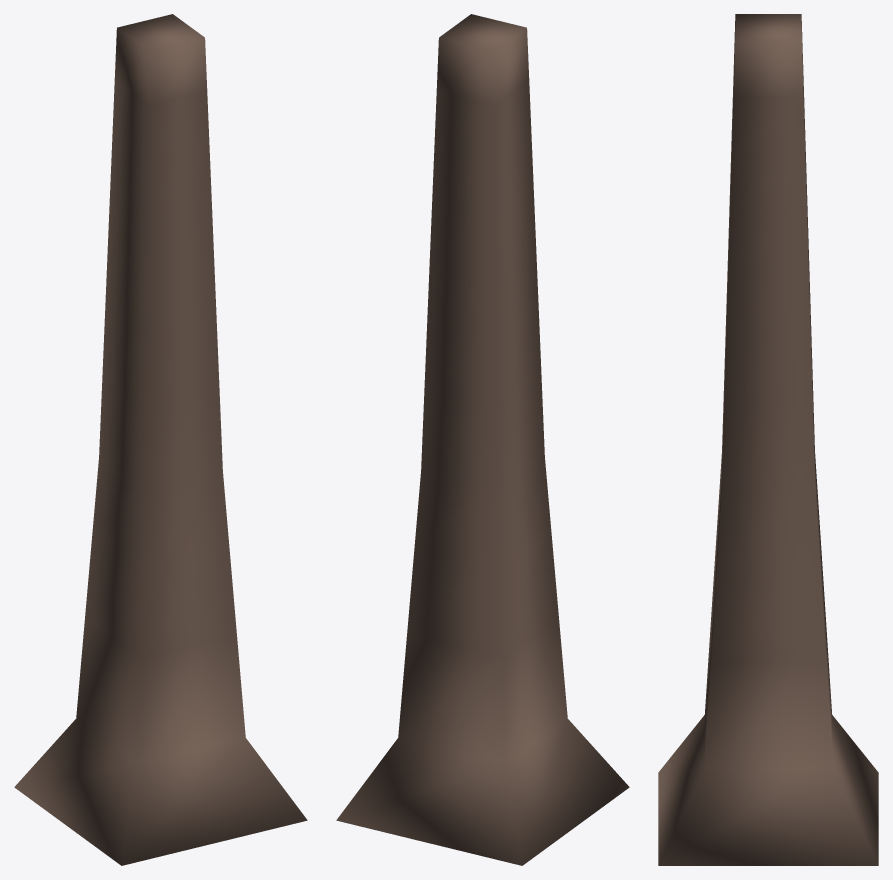
Rendered from tige.fbx.
3 views of the same model, side by side, from view 1: azimuth 30°, elevation 25°; view 2: azimuth 150°, elevation 25°; view 3: azimuth 270°, elevation 25° (orthographic). The views are drawn at different scales.
Parts seen in each view (by area): view 1: Plane; view 2: Plane; view 3: Plane.
Boxes of the visible parts, x1,y1,x2,y2 form: Plane: (14,14,307,865); Plane: (336,14,629,865); Plane: (658,14,878,865).
Size of the model in its own units: 95.5 by 378 by 95.5.
